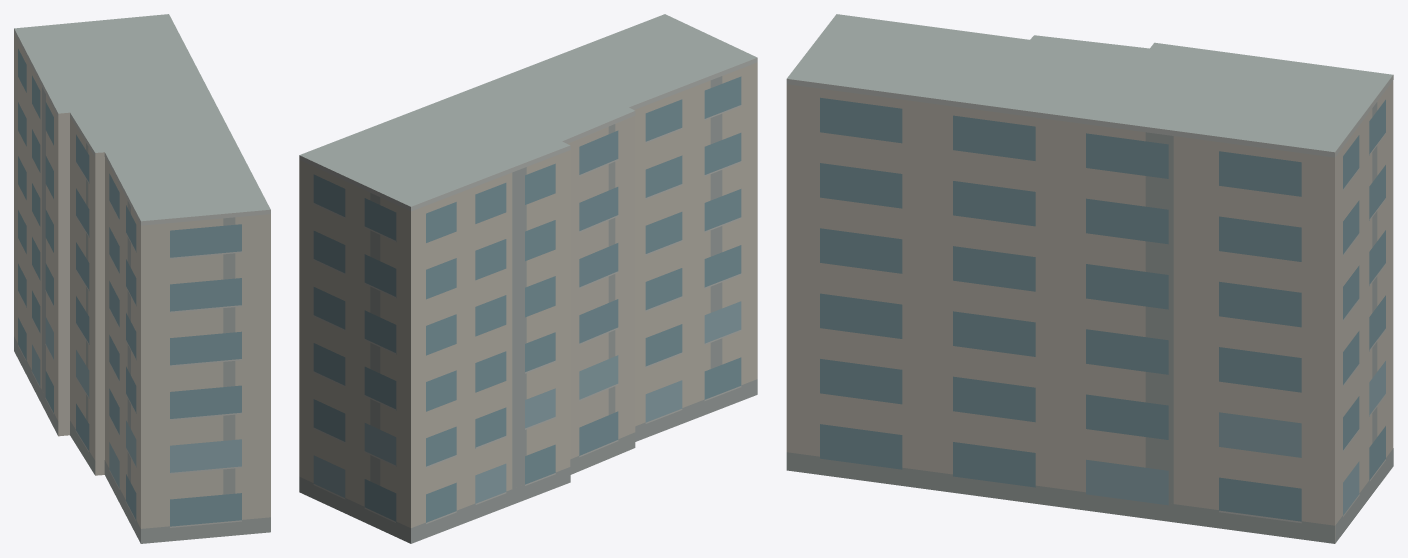
Rendered from survey-upis-32868383.glb.
The picture shows the model from 3 angles, left to right: view 1: azimuth 30°, elevation 25°; view 2: azimuth 150°, elevation 25°; view 3: azimuth 270°, elevation 25°; orthographic projection. The views are drawn at different scales.
Visible parts, largest first — view 1: survey-upis-32868383.tmp; view 2: survey-upis-32868383.tmp; view 3: survey-upis-32868383.tmp.
Boxes of the visible parts, <box> form: survey-upis-32868383.tmp: <box>14,14,270,543</box>; survey-upis-32868383.tmp: <box>299,14,757,543</box>; survey-upis-32868383.tmp: <box>786,14,1393,543</box>.
Bounding box in the file's own units: 13.41 × 17.7 × 24.86.
